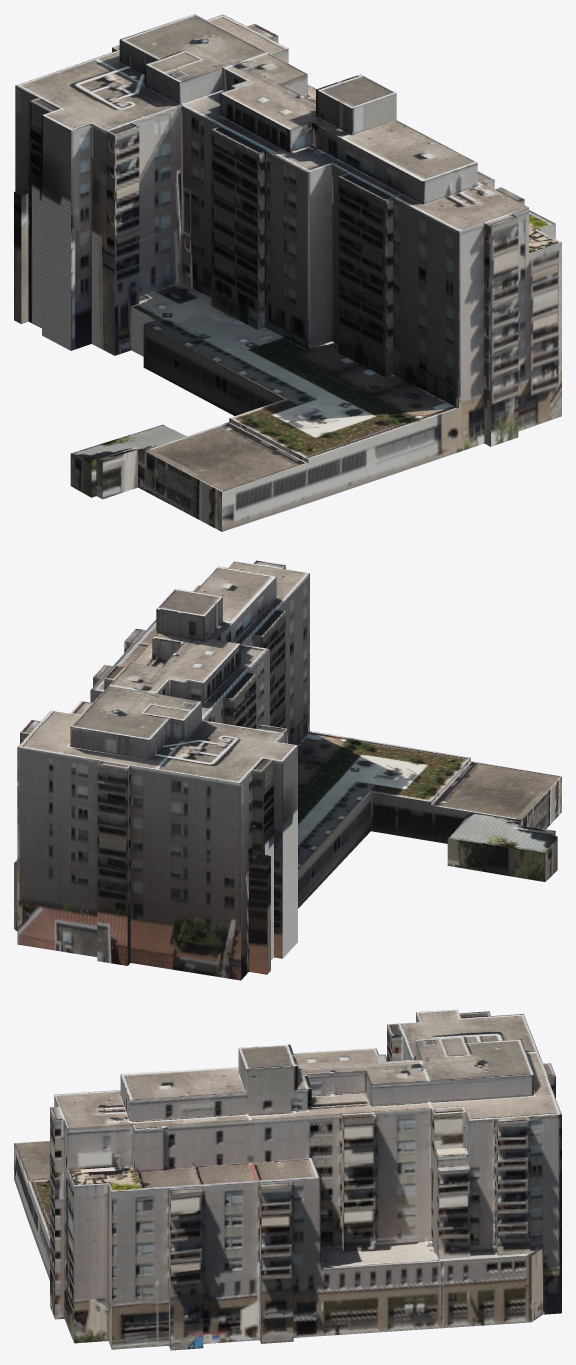
3 views of the same model, one above another, from view 1: azimuth 30°, elevation 25°; view 2: azimuth 150°, elevation 25°; view 3: azimuth 270°, elevation 25° (orthographic). The views are drawn at different scales.
Parts seen in each view (by area): view 1: Z_UP; view 2: Z_UP; view 3: Z_UP.
Boxes of the visible parts, <box> form: Z_UP: <box>14,14,561,531</box>; Z_UP: <box>14,560,561,980</box>; Z_UP: <box>14,1009,561,1350</box>.
Bounding box in the file's own units: 54.71 × 30.97 × 63.16.
2 materials, 1 textured.
